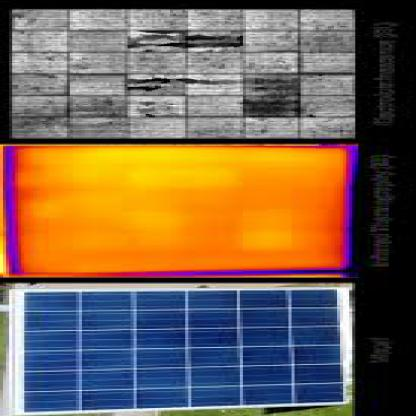Defects: (236, 204, 288, 248), (130, 166, 230, 186)
